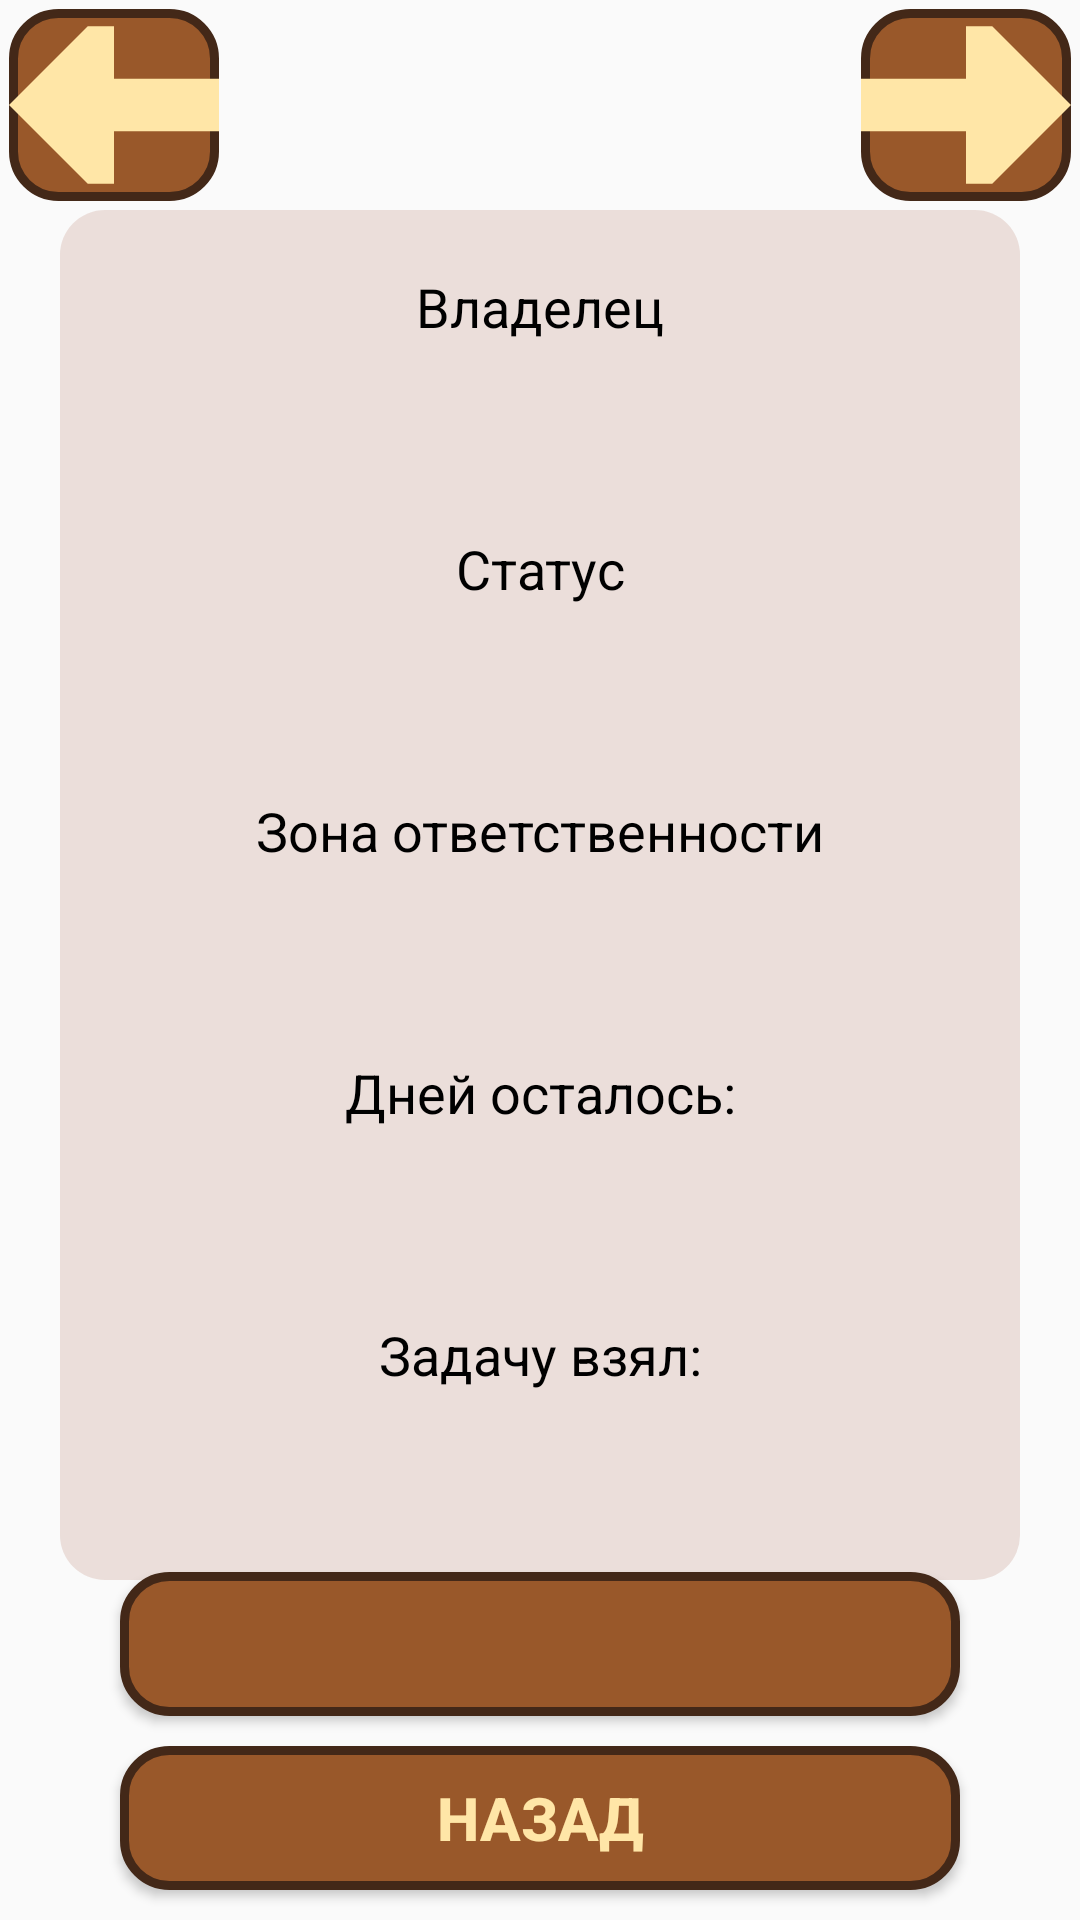

Icons on this 1080w x 1920h Android screen, each with the point to tap as point (x, y):
arrow left: point (114, 105)
arrow right: point (966, 105)
